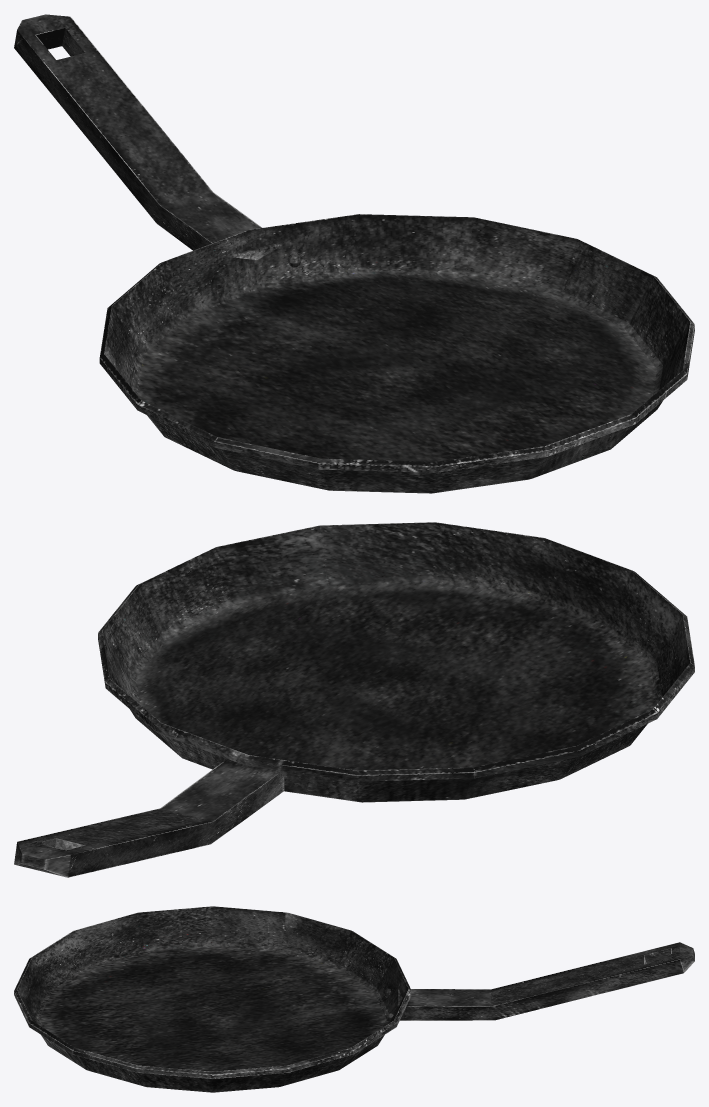
File: sarten_2_.obj
The picture shows the model from 3 angles, top to bottom: view 1: azimuth 30°, elevation 25°; view 2: azimuth 150°, elevation 25°; view 3: azimuth 270°, elevation 25°; orthographic projection. The views are drawn at different scales.
Visible parts, largest first — view 1: sarten_; view 2: sarten_; view 3: sarten_.
Part boxes in pixels (bbox=[...]): sarten_: bbox=[14, 14, 694, 493]; sarten_: bbox=[14, 522, 694, 877]; sarten_: bbox=[14, 906, 694, 1092].
Bounding box in the file's own units: 0.3035 × 0.0573 × 0.5195.
Materials: 1 (1 with a texture image).
